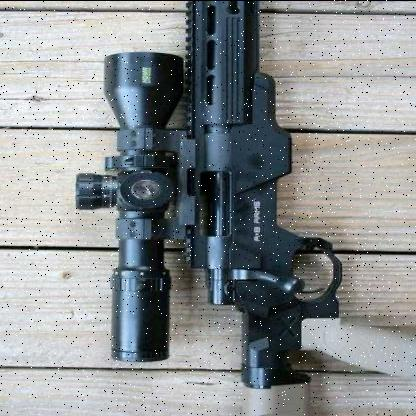rifle: (106, 1, 376, 416)
